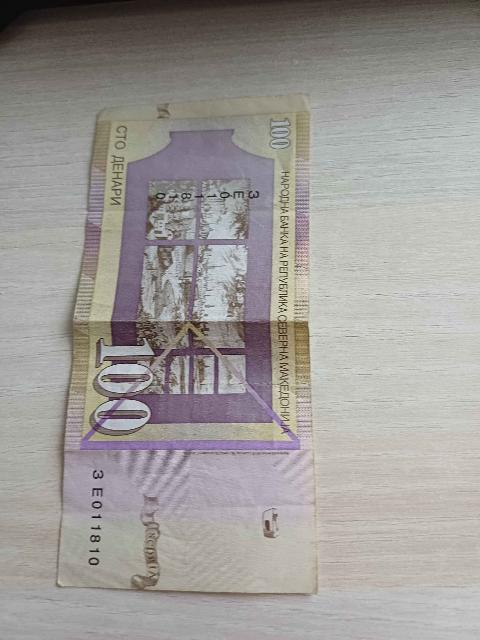100_note: (59, 96, 316, 592)
